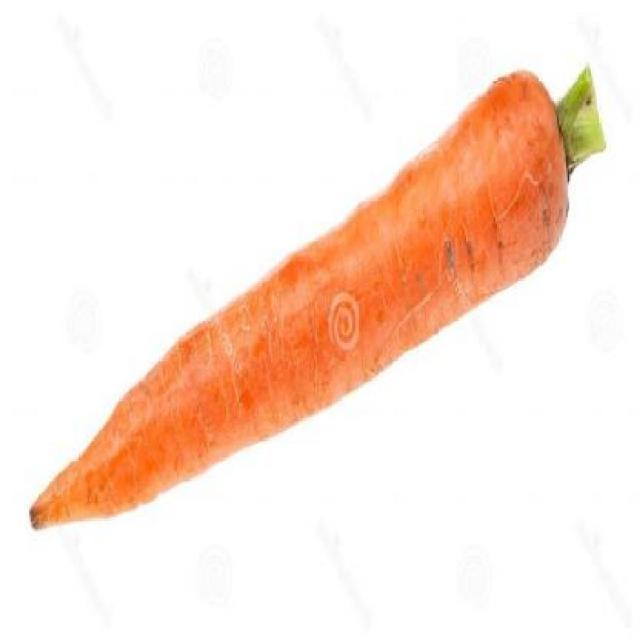carrot: (31, 69, 605, 528)
